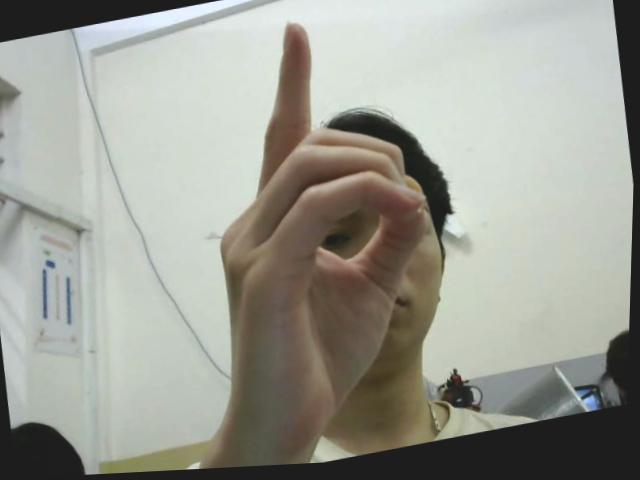D: (183, 0, 460, 455)
